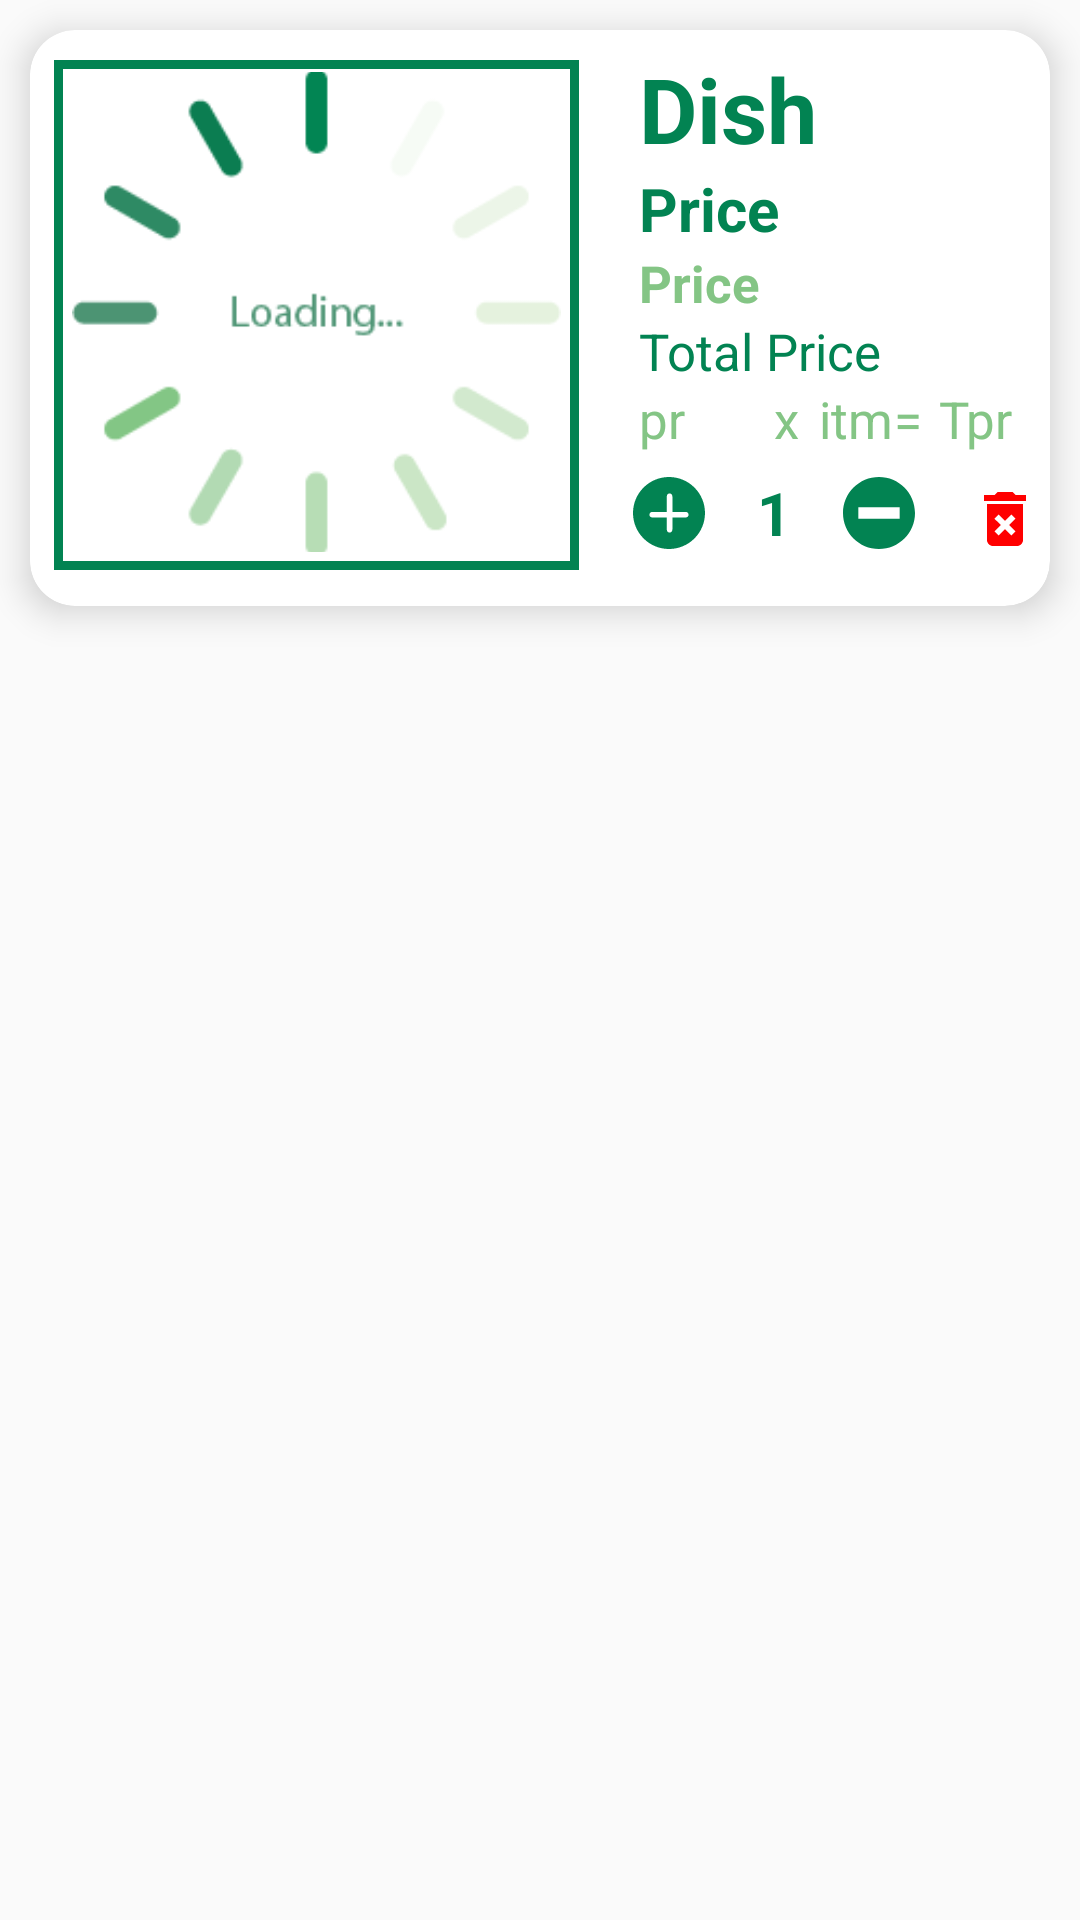

Icons on this 1080 x 1920 Android screen, each with the point to tap as [x,y]:
minus: [879,513]
plus: [669,513]
